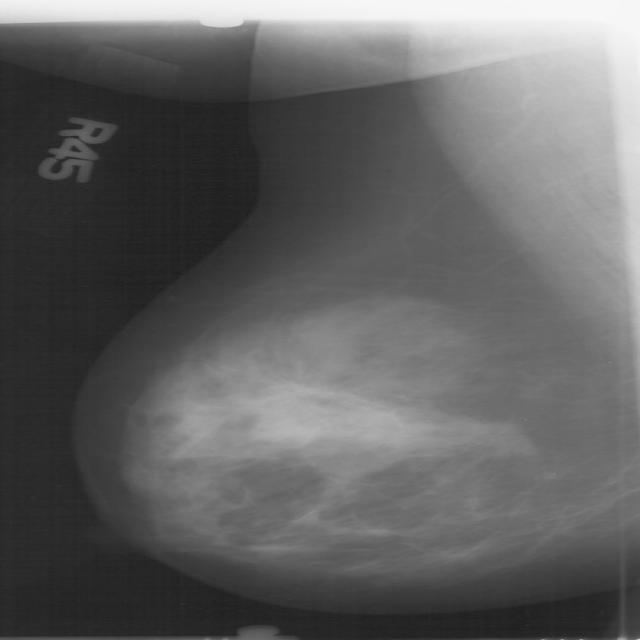tumour: (452, 413, 534, 458)
